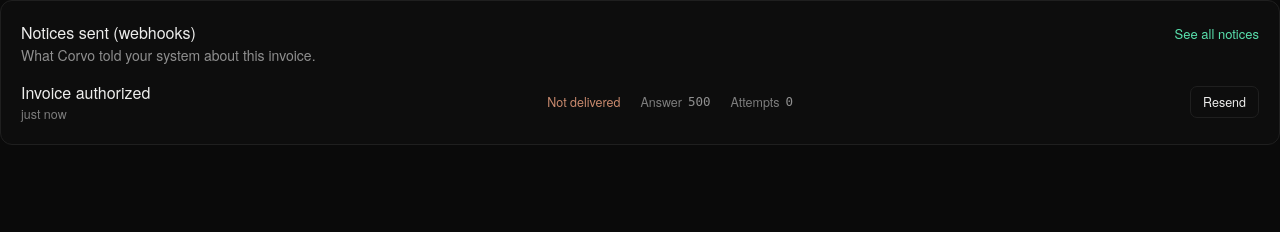
Test: InvoiceWebhookDeliveries › resends a failed notice and reloads the list
The width and height of the screenshot is (1280, 232).
Click the button "Resend": (1224, 102) [1190,86,1259,118]
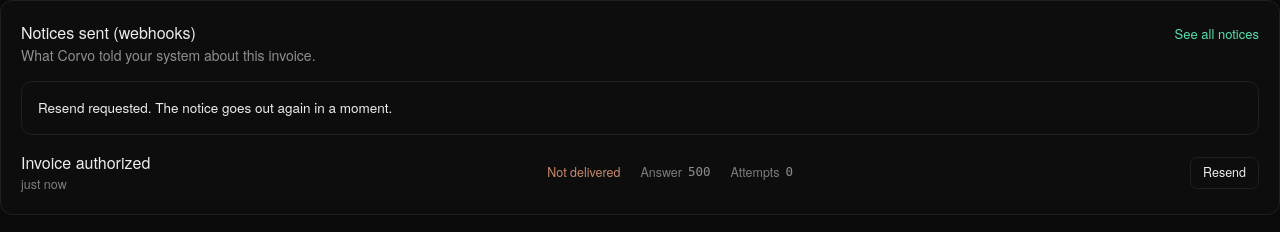
Check: the text "Resend requested. The notice goes out again in a moment." is shown, box [21,81,1259,135]
